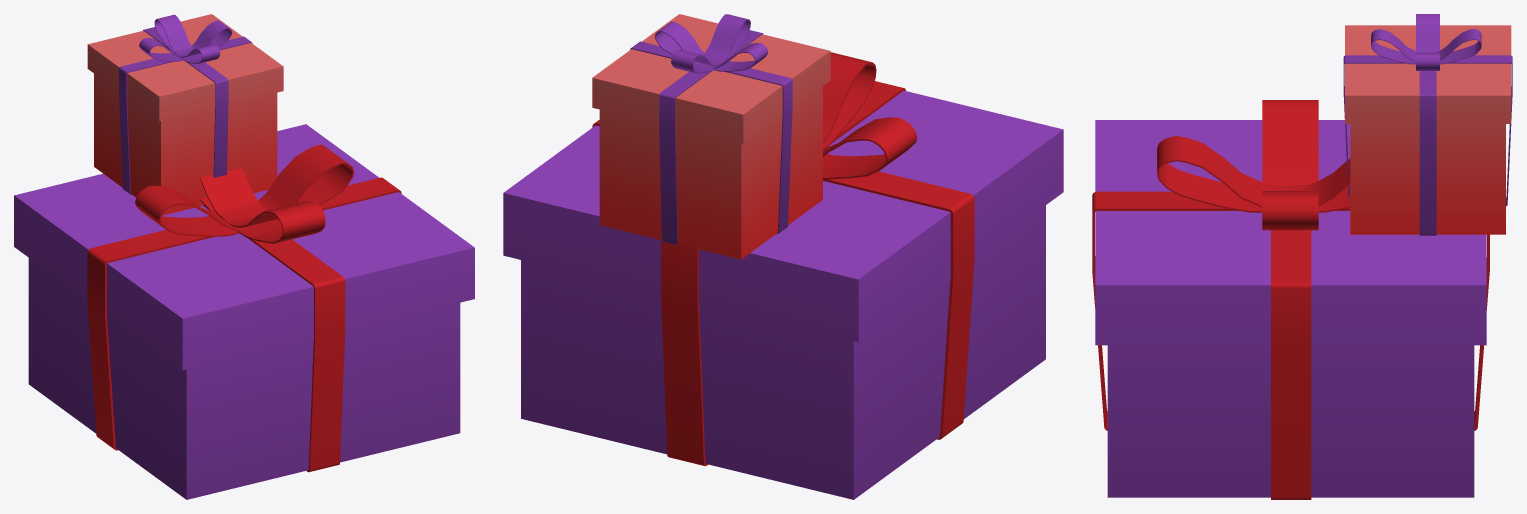
The model's file is Presents.fbx.
3 views of the same model, side by side, from view 1: azimuth 30°, elevation 25°; view 2: azimuth 150°, elevation 25°; view 3: azimuth 270°, elevation 25° (orthographic). The views are drawn at different scales.
Visible parts, largest first — view 1: gifts_low.001; view 2: gifts_low.001; view 3: gifts_low.001.
Boxes of the visible parts, x1=… form: gifts_low.001: x1=14, y1=14, x2=474, y2=499; gifts_low.001: x1=503, y1=14, x2=1063, y2=499; gifts_low.001: x1=1092, y1=14, x2=1512, y2=499.
Bounding box in the file's own units: 46.43 × 50.18 × 49.09.
